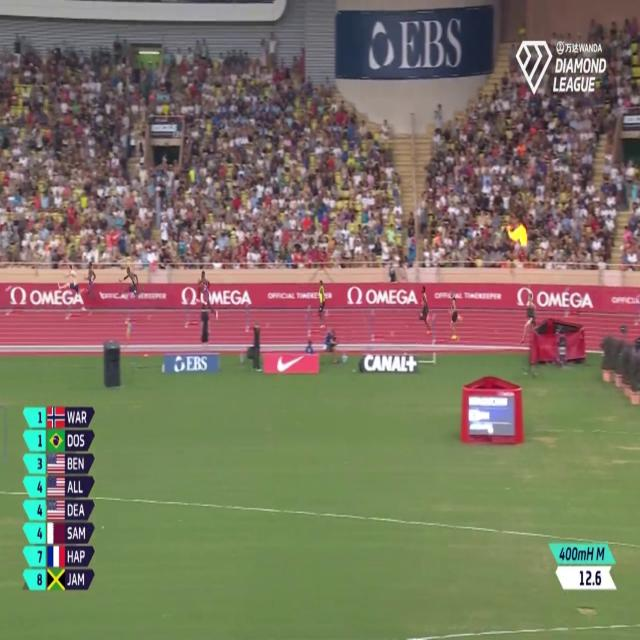athlete: (192, 261, 220, 321), (116, 260, 147, 306), (520, 290, 538, 354), (51, 263, 82, 299), (413, 279, 431, 334), (316, 274, 331, 333), (86, 259, 100, 308), (448, 292, 459, 344)
hurdle: (240, 291, 254, 334), (427, 306, 441, 348), (367, 301, 380, 346), (183, 294, 195, 331), (63, 282, 73, 323), (4, 281, 13, 320), (304, 304, 312, 346)
